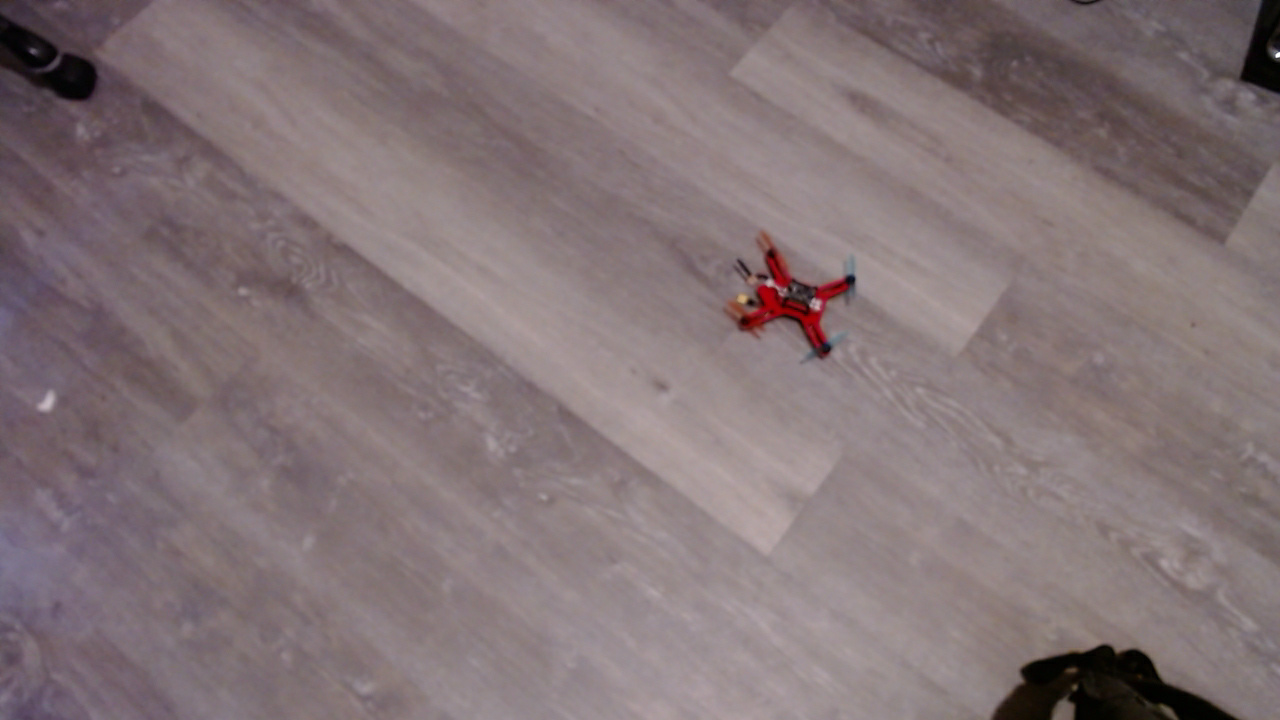crazyflie: (722, 223, 876, 374)
